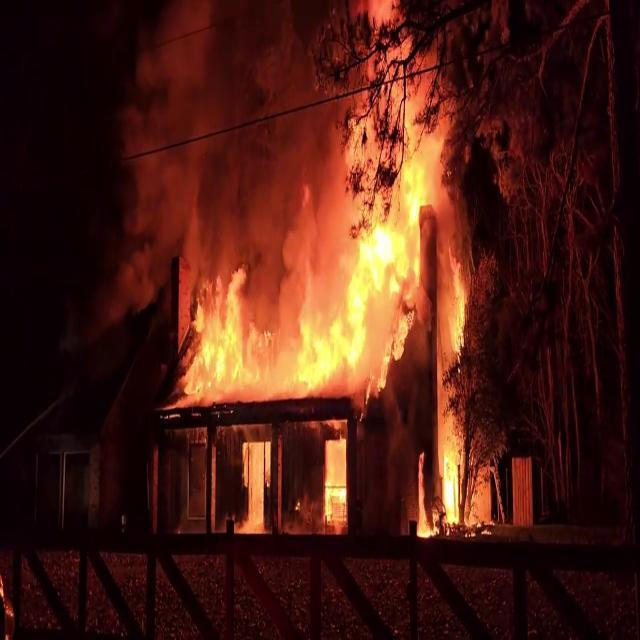Fire: (178, 96, 472, 432), (418, 355, 494, 535), (320, 434, 347, 539)
Smoke: (92, 1, 341, 270)
